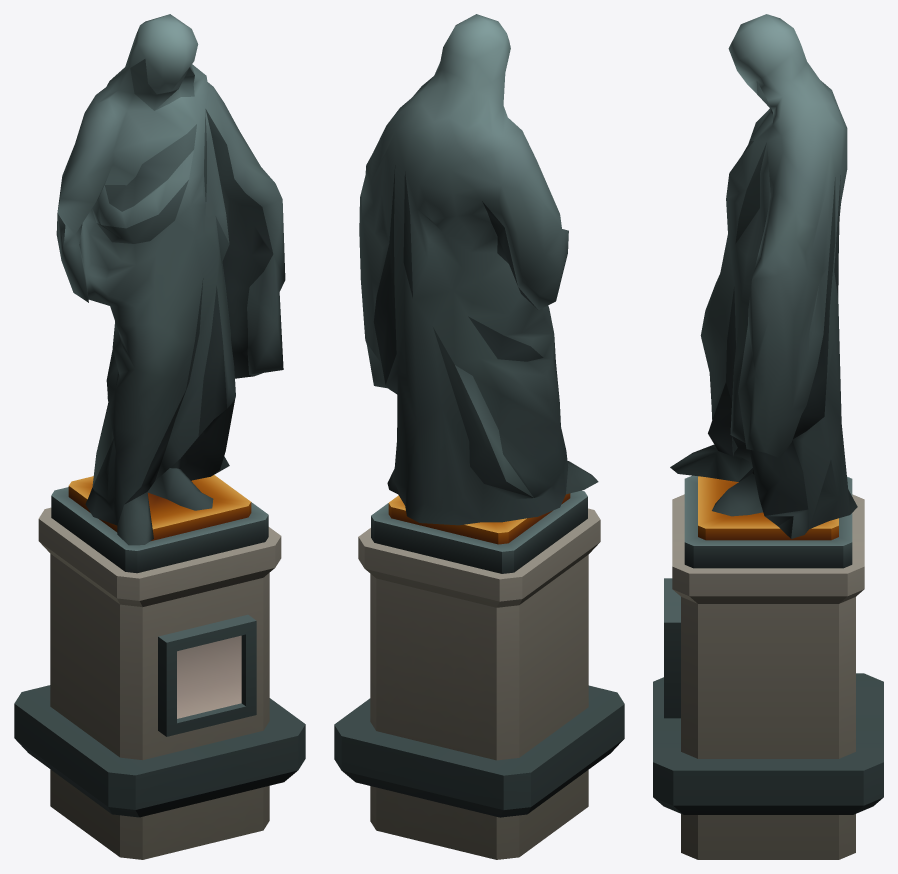
File: tc_statue_1b_indoor.glb
3 renders of one model, left to right at view 1: azimuth 30°, elevation 25°; view 2: azimuth 150°, elevation 25°; view 3: azimuth 270°, elevation 25°, orthographic.
Parts seen in each view (by area): view 1: Statue_1B; view 2: Statue_1B; view 3: Statue_1B.
Boxes of the visible parts, left/top/right/bottom form: Statue_1B: left=14, top=14, right=305, bottom=859; Statue_1B: left=334, top=14, right=624, bottom=859; Statue_1B: left=653, top=14, right=883, bottom=859.
Size of the model in its own units: 0.685 by 2.4 by 0.6232.
1 material, 1 textured.
